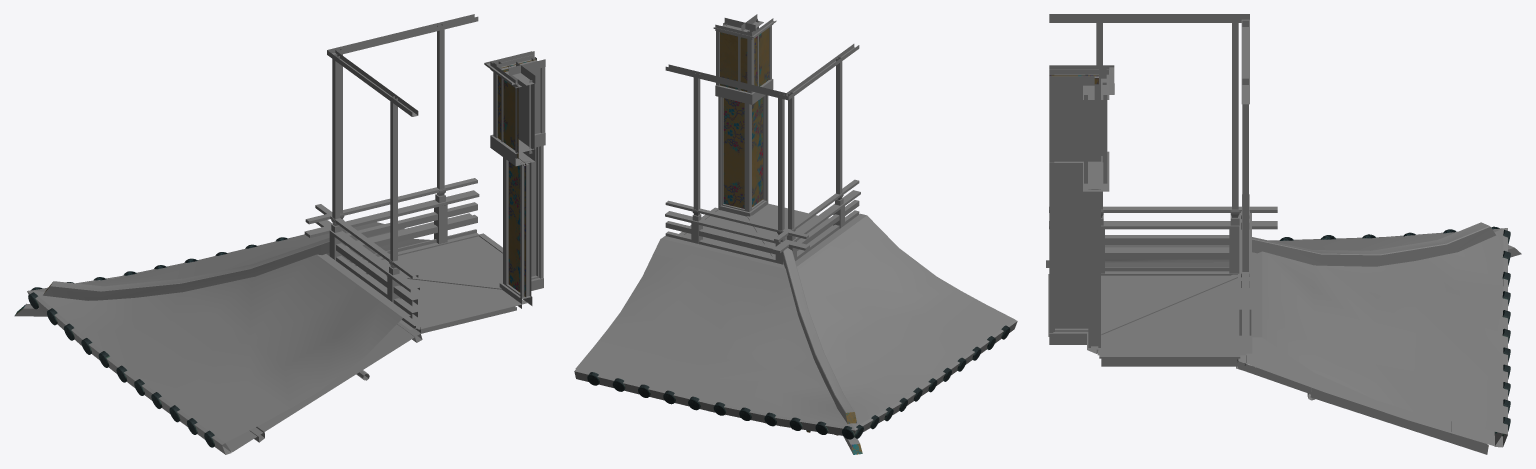
File: FL4_External_Wall_Corner.fbx
3 views of the same model, side by side, from view 1: azimuth 30°, elevation 25°; view 2: azimuth 150°, elevation 25°; view 3: azimuth 270°, elevation 25° (orthographic). The views are drawn at different scales.
Parts seen in each view (by area): view 1: FL4_External_Wall_Corner; view 2: FL4_External_Wall_Corner; view 3: FL4_External_Wall_Corner.
Boxes of the visible parts, x1,y1,x2,y2 form: FL4_External_Wall_Corner: (14,14,545,454); FL4_External_Wall_Corner: (574,14,1017,454); FL4_External_Wall_Corner: (1046,14,1521,454).
Size of the model in its own units: 644 by 541 by 640.
